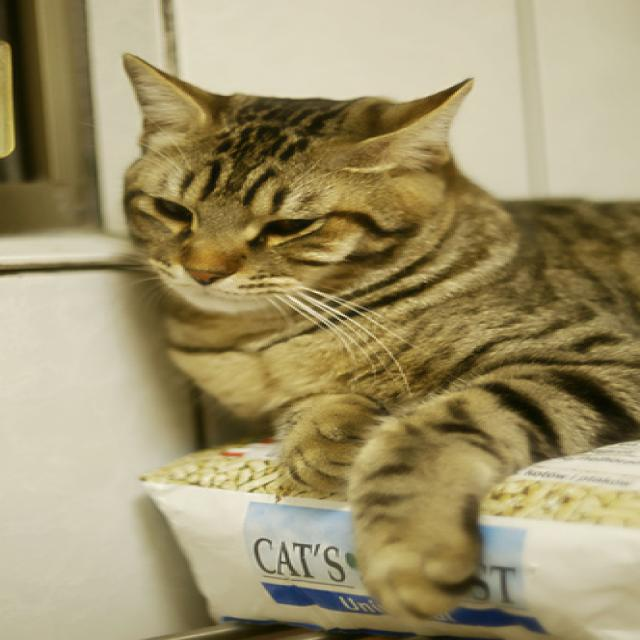cat: (121, 53, 639, 625)
